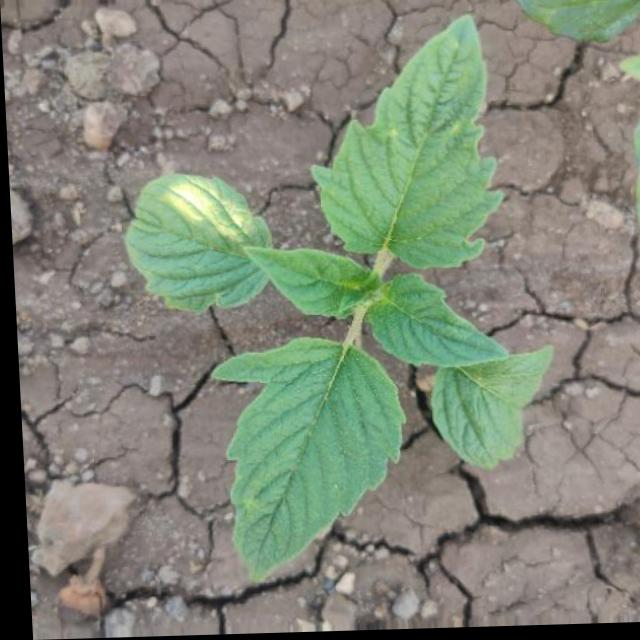crop: (108, 12, 565, 585)
